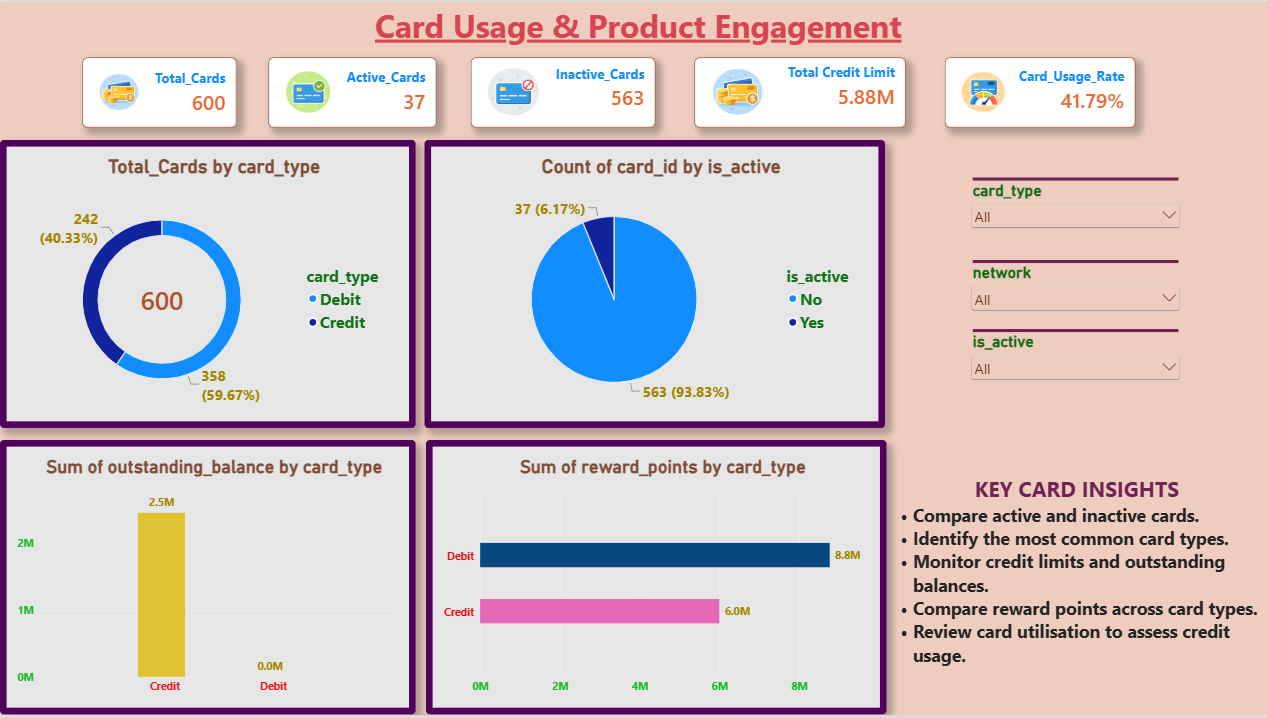

The dashboard page shown, as its layout file describes it:
{"tool":"powerbi","page":{"name":"Card Usage & Product Engagement","canvas":[1920,1080],"ordinal":5},"visuals":[{"type":"cardVisual","fields":{"Data":["cards.Total_Cards"]},"box":[124.9,84,233.9,106.8],"z":0},{"type":"cardVisual","fields":{"Data":["cards.Active_Cards"]},"box":[406.6,84,254.4,106.8],"z":1000},{"type":"cardVisual","fields":{"Data":["cards.Inactive_Cards"]},"box":[713.2,84,279.4,106.8],"z":2000},{"type":"cardVisual","fields":{"Data":["Sum(cards.credit_limit)"]},"box":[1051.6,84,320.3,106.8],"z":3000},{"type":"cardVisual","fields":{"Data":["cards.Card_Utilisation_Rate"]},"box":[1430.9,84,288.5,106.8],"z":4000},{"type":"donutChart","fields":{"Category":["cards.card_type"],"Y":["cards.Total_Cards"]},"box":[0,209,629.2,436.1],"z":5000},{"type":"textbox","box":[213.5,2.3,1505.9,81.8],"z":6000},{"type":"pieChart","fields":{"Category":["cards.is_active"],"Y":["Count(cards.card_id)"]},"box":[642.8,209,697.3,436.1],"z":7000},{"type":"clusteredColumnChart","fields":{"Category":["cards.card_type"],"Y":["Sum(cards.outstanding_balance)"]},"box":[0,663.2,629.2,415.6],"z":8000},{"type":"clusteredBarChart","fields":{"Category":["cards.card_type"],"Y":["Sum(cards.reward_points)"]},"box":[645.1,663.2,697.3,415.6],"z":9000},{"type":"slicer","fields":{"Values":["cards.card_type"]},"box":[1465,265.7,327.1,97.7],"z":10000},{"type":"slicer","fields":{"Values":["cards.network"]},"box":[1465,390.7,327.1,149.9],"z":11000},{"type":"slicer","fields":{"Values":["cards.is_active"]},"box":[1465,495.1,327.1,149.9],"z":12000},{"type":"textbox","box":[1342.3,715.5,576.9,363.4],"z":13000}]}

Visuals, with their boxes in screenshot pixels (x1, y1, x2, y2), scaled from the page's 1920x1080 canvas onto the 1267x718 screenshot:
cardVisual - cards.Total_Cards: [left=82, top=56, right=237, bottom=127]
cardVisual - cards.Active_Cards: [left=268, top=56, right=436, bottom=127]
cardVisual - cards.Inactive_Cards: [left=471, top=56, right=655, bottom=127]
cardVisual - Sum(cards.credit_limit): [left=694, top=56, right=905, bottom=127]
cardVisual - cards.Card_Utilisation_Rate: [left=944, top=56, right=1135, bottom=127]
donutChart - cards.card_type x cards.Total_Cards: [left=0, top=139, right=415, bottom=429]
textbox: [left=141, top=2, right=1135, bottom=56]
pieChart - cards.is_active x Count(cards.card_id): [left=424, top=139, right=884, bottom=429]
clusteredColumnChart - cards.card_type x Sum(cards.outstanding_balance): [left=0, top=441, right=415, bottom=717]
clusteredBarChart - cards.card_type x Sum(cards.reward_points): [left=426, top=441, right=886, bottom=717]
slicer - cards.card_type: [left=967, top=177, right=1183, bottom=242]
slicer - cards.network: [left=967, top=260, right=1183, bottom=359]
slicer - cards.is_active: [left=967, top=329, right=1183, bottom=429]
textbox: [left=886, top=476, right=1266, bottom=717]
